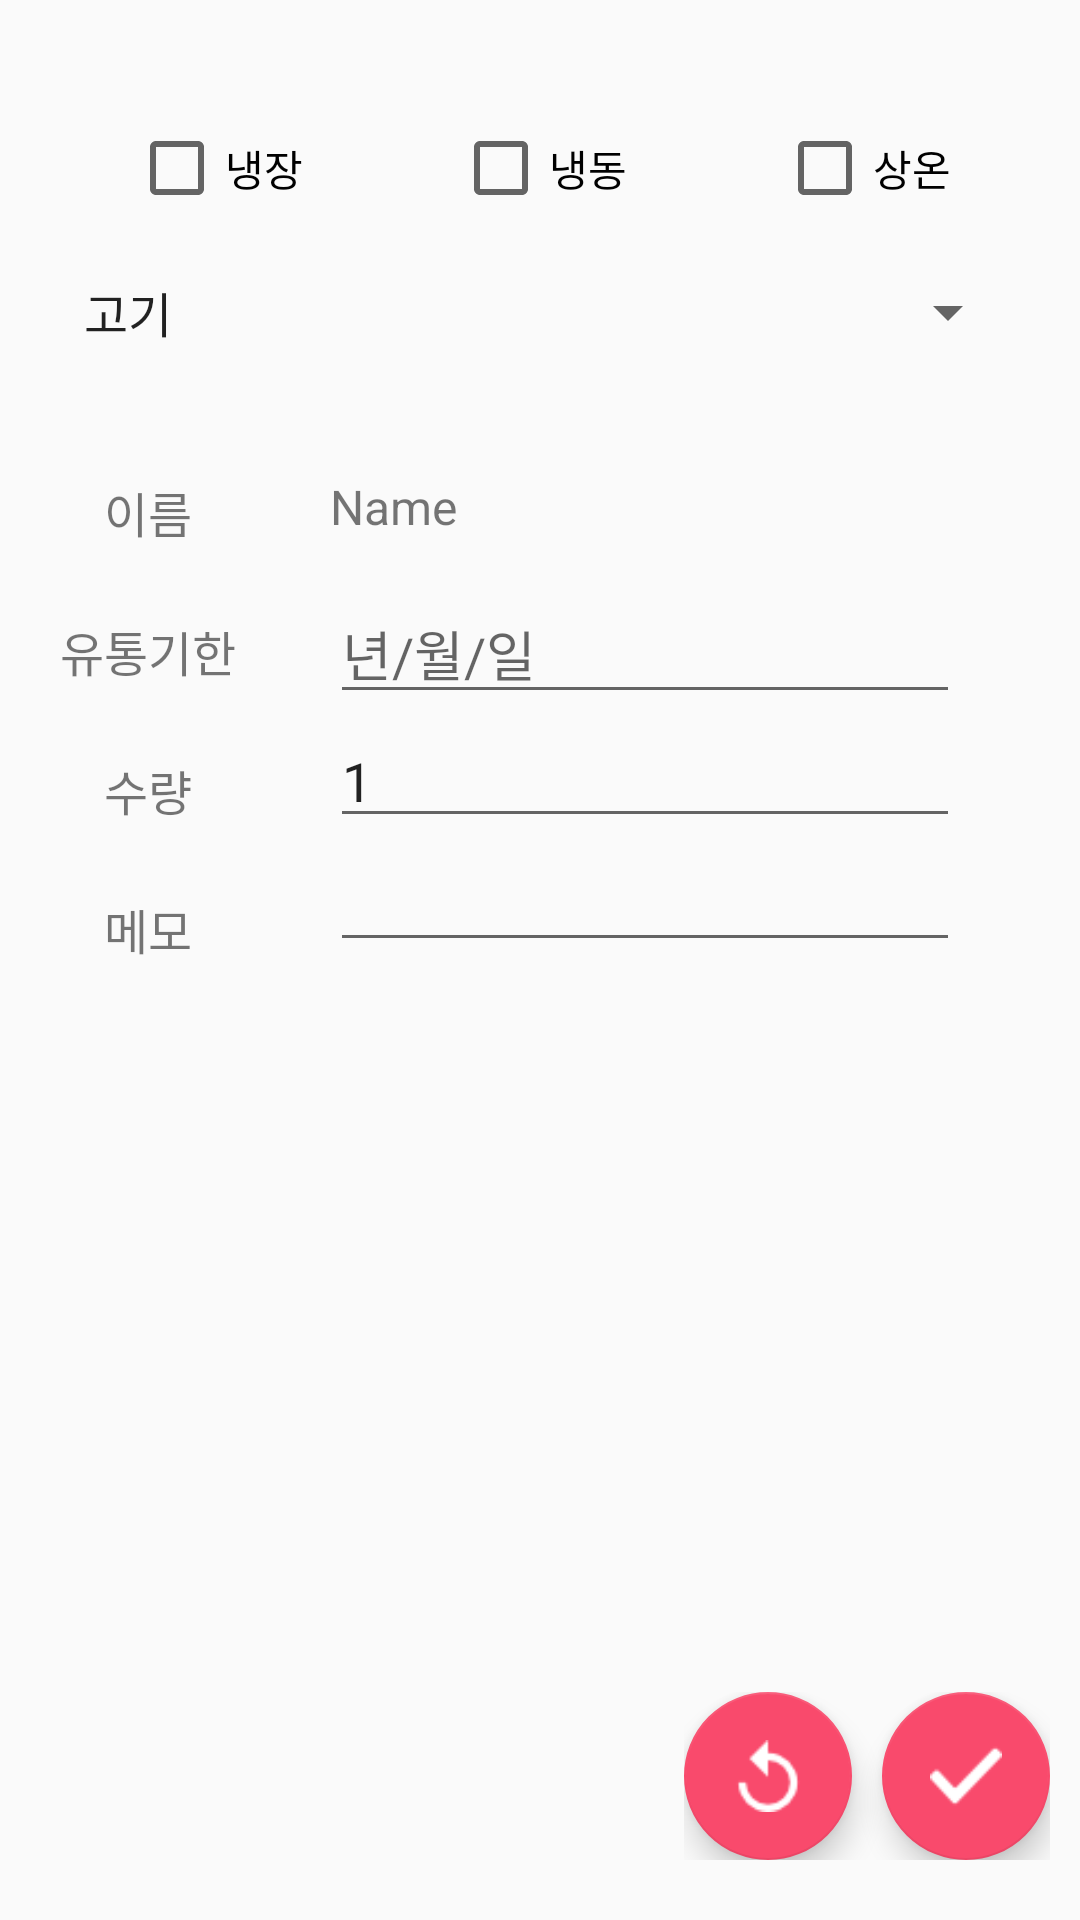

Locate icon controls on the screen. Image size 1080×1920, boxes as (x1, y1, x2, y2).
return main: (684, 1692, 852, 1860)
success: (882, 1692, 1050, 1860)
